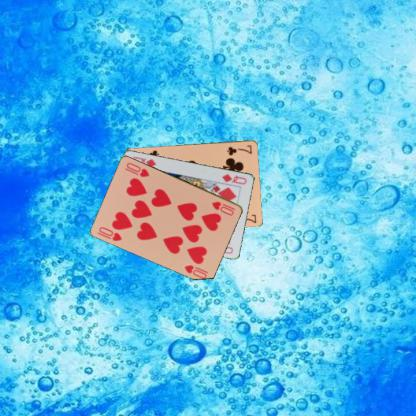10h: (209, 198, 237, 216), (97, 224, 123, 242)
7c: (225, 142, 253, 156)
Qd: (219, 171, 248, 185)
